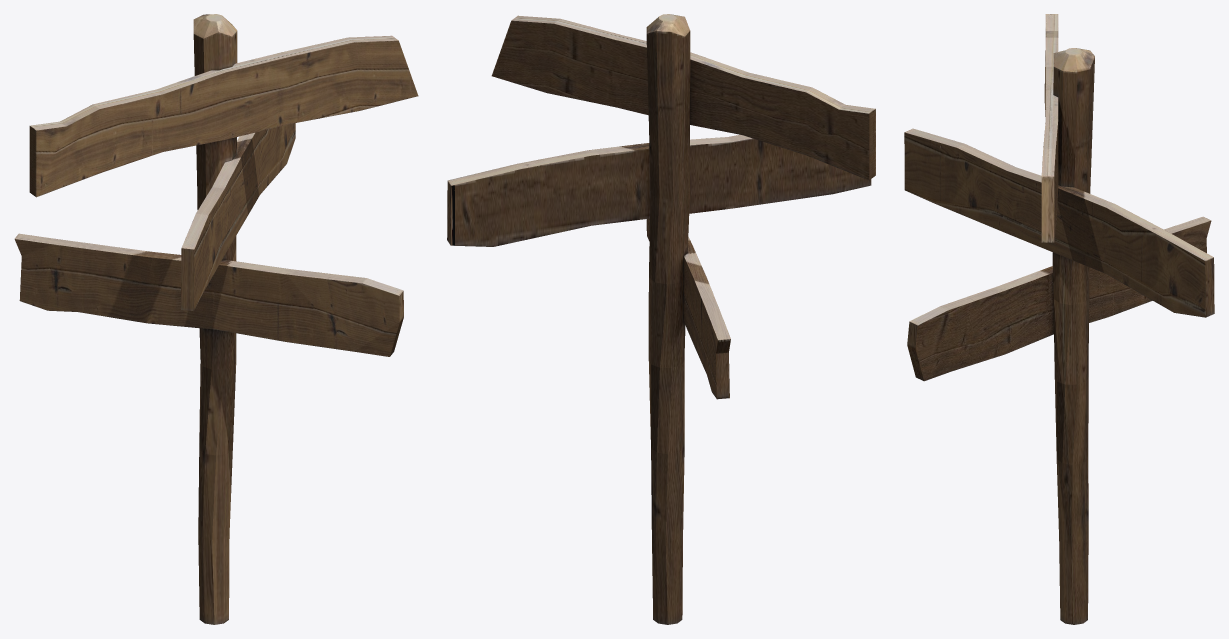
File: panneau_direction.glb
3 views of the same model, side by side, from view 1: azimuth 30°, elevation 25°; view 2: azimuth 150°, elevation 25°; view 3: azimuth 270°, elevation 25° (orthographic). The views are drawn at different scales.
Visible parts, largest first — view 1: SignPost_3_plank_angled_0; view 2: SignPost_3_plank_angled_0; view 3: SignPost_3_plank_angled_0.
Part boxes in pixels (<box>): SignPost_3_plank_angled_0: <box>14,14,418,624</box>; SignPost_3_plank_angled_0: <box>447,14,875,624</box>; SignPost_3_plank_angled_0: <box>904,14,1214,624</box>.
Bounding box in the file's own units: 2 × 3.02 × 1.5.
1 material, 1 textured.
